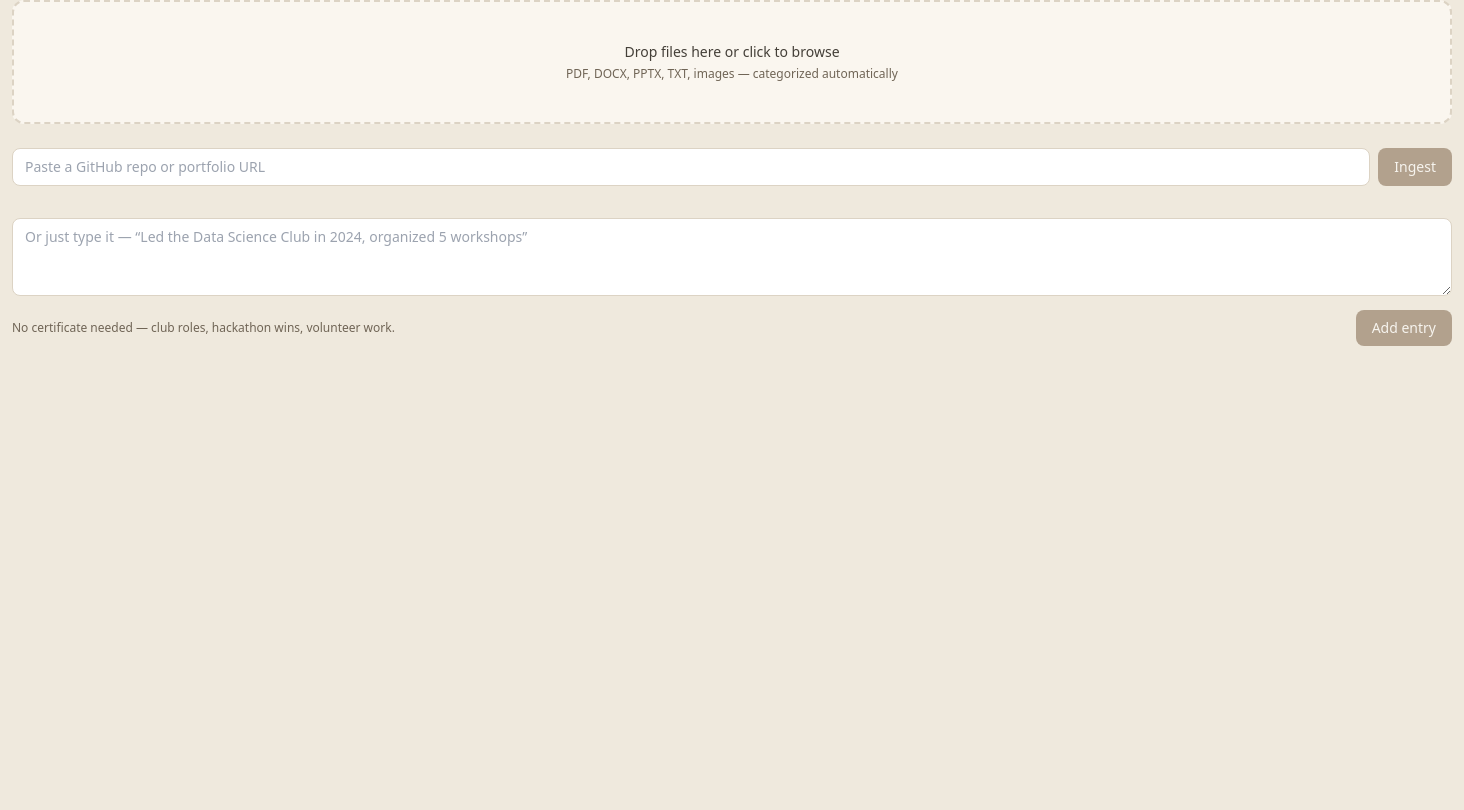
Test: Upload dispatches GitHub results to GitHubCard › renders a generic URL result as a plain ResultCard
Type "https://example.com/blog" into the field with placeholder "Paste a GitHub repo or portfolio URL" at {"x": 691, "y": 167}, box [12, 148, 1370, 186]
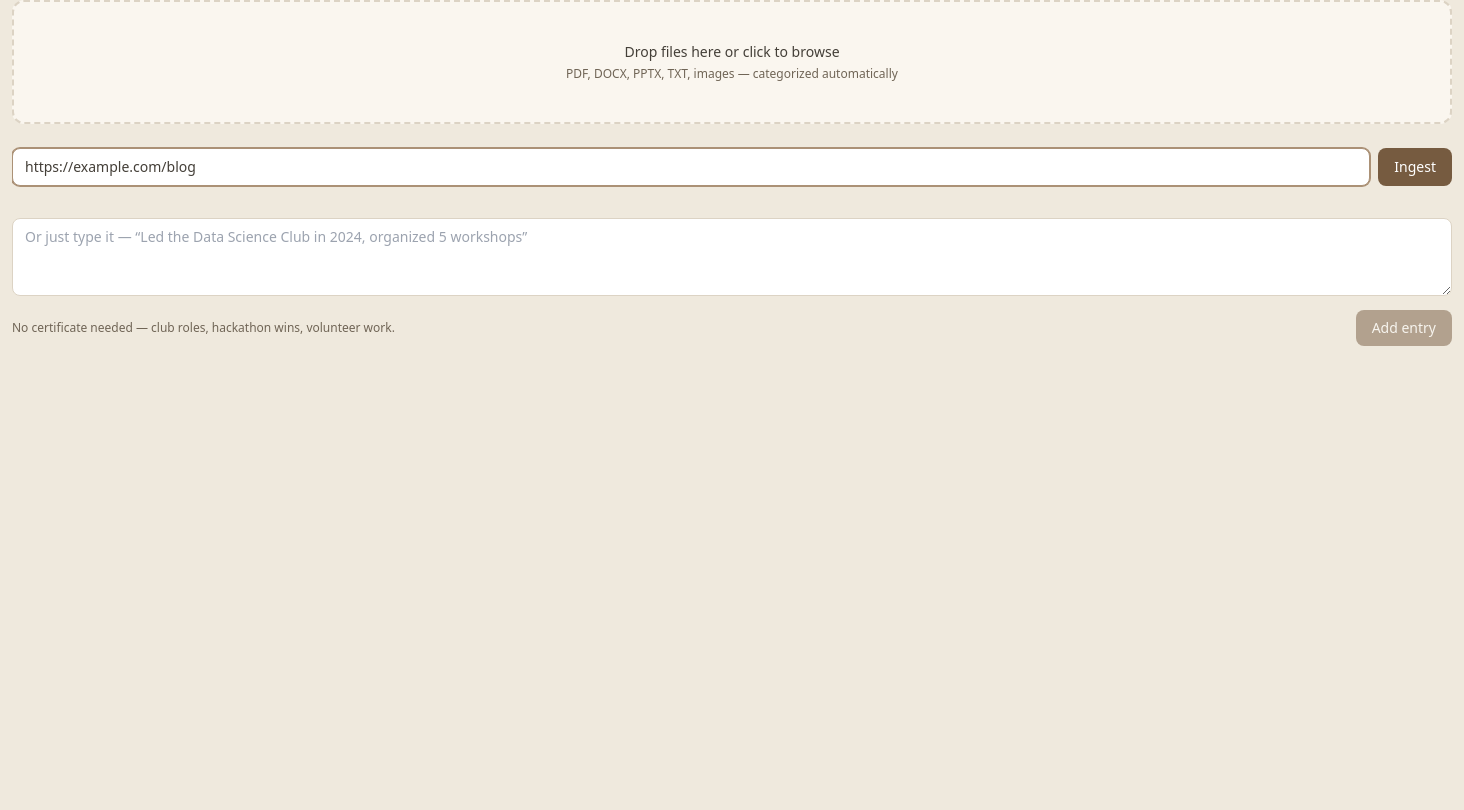
Click the button "Ingest" at {"x": 1415, "y": 167}, box [1378, 148, 1452, 186]
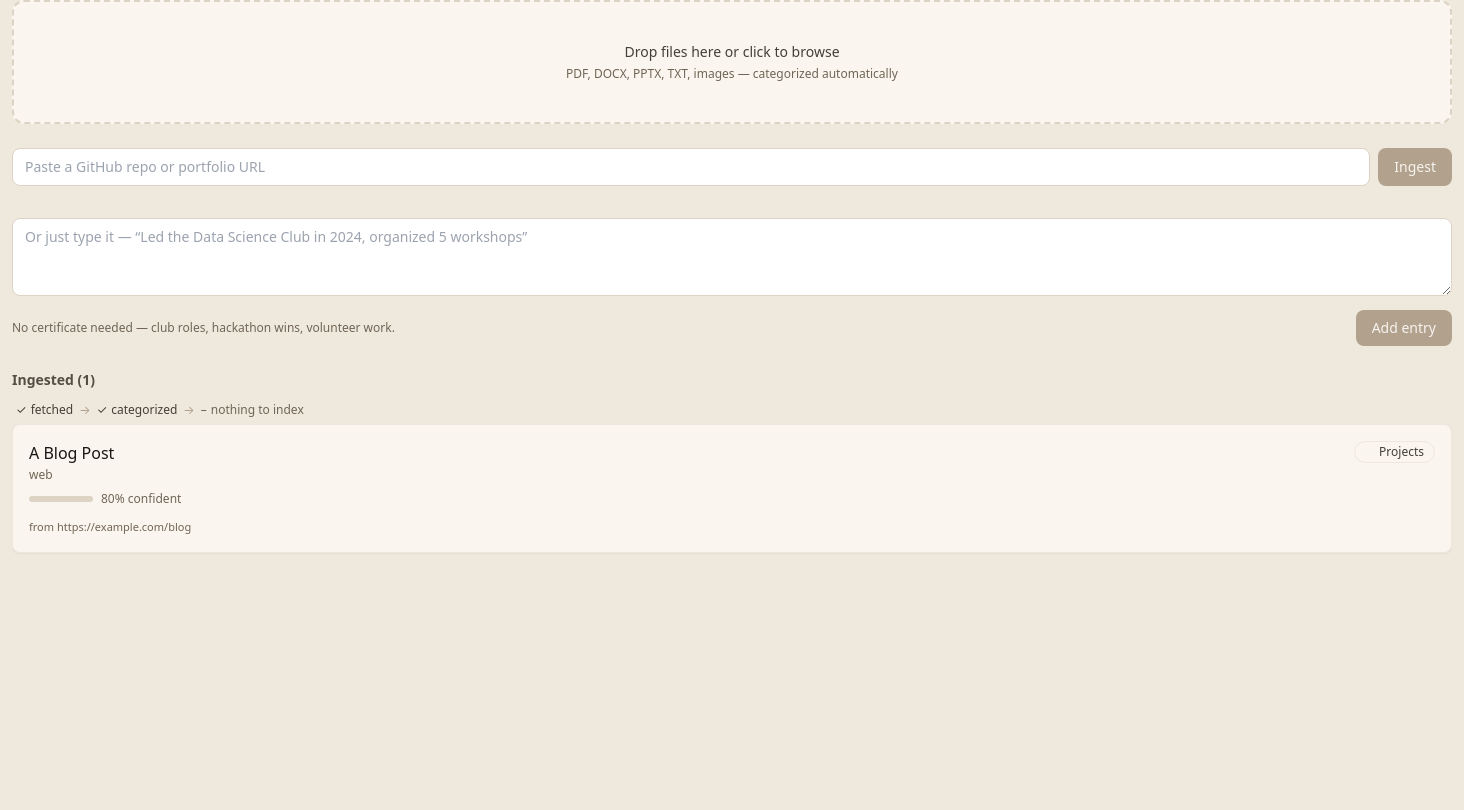
Now the text "A Blog Post" is shown, box [29, 441, 114, 465]
